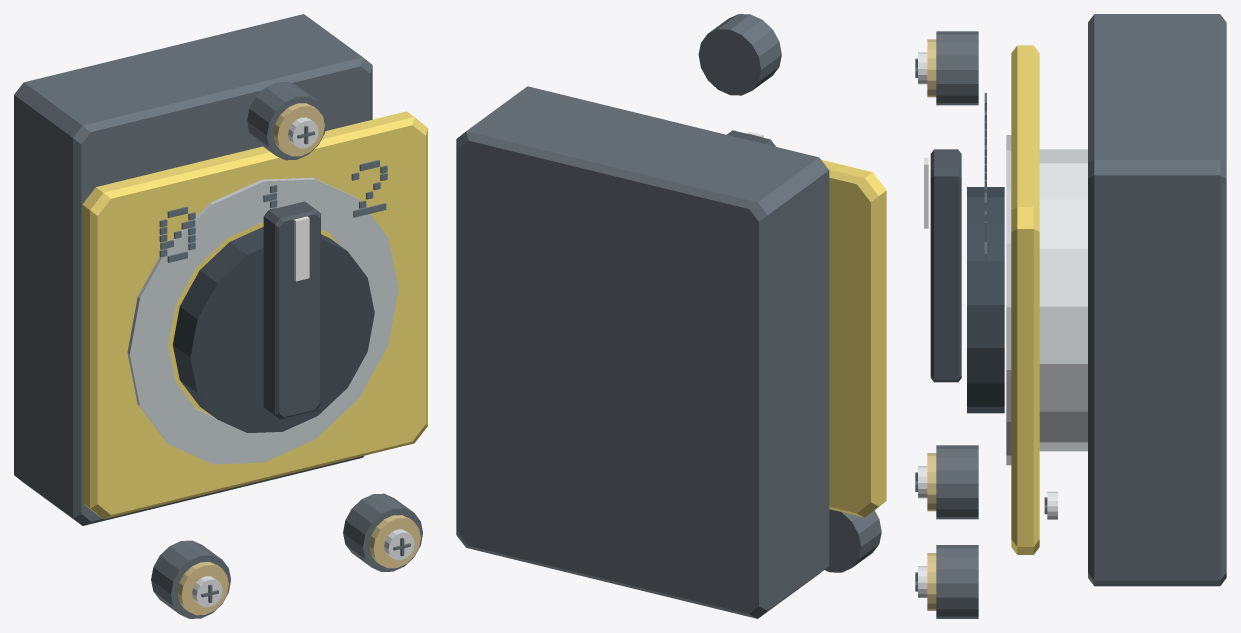
Rendered from rotarySwitch.glb.
The picture shows the model from 3 angles, left to right: view 1: azimuth 30°, elevation 25°; view 2: azimuth 150°, elevation 25°; view 3: azimuth 270°, elevation 25°; orthographic projection. The views are drawn at different scales.
Parts seen in each view (by area): view 1: rotarySwitch-preview; view 2: rotarySwitch-preview; view 3: rotarySwitch-preview.
Part boxes in pixels (<box>): rotarySwitch-preview: <box>14,14,427,618</box>; rotarySwitch-preview: <box>456,14,886,618</box>; rotarySwitch-preview: <box>915,14,1226,618</box>.
Bounding box in the file's own units: 1.76 × 2.48 × 1.32.
